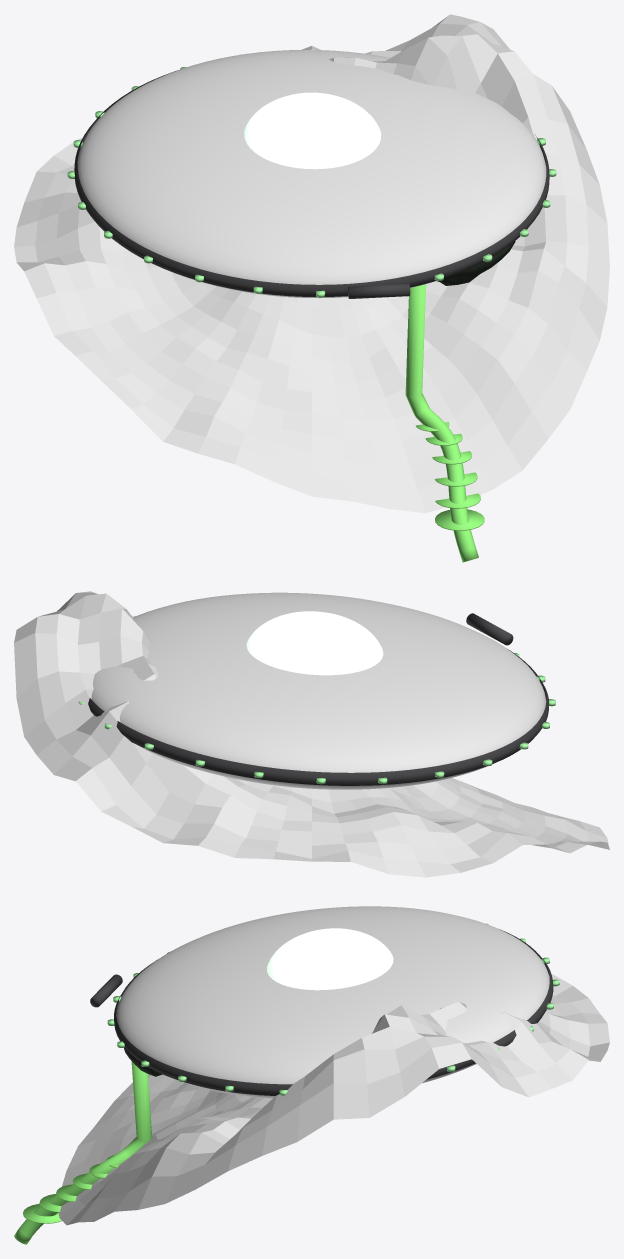
Rendered from Ship.fbx.
3 renders of one model, top to bottom at view 1: azimuth 30°, elevation 25°; view 2: azimuth 150°, elevation 25°; view 3: azimuth 270°, elevation 25°, orthographic. The views are drawn at different scales.
Parts seen in each view (by area): view 1: Ship_LOD0; view 2: Ship_LOD0; view 3: Ship_LOD0.
Boxes of the visible parts, x1,y1,x2,y2 form: Ship_LOD0: [14, 14, 609, 562]; Ship_LOD0: [14, 591, 609, 877]; Ship_LOD0: [14, 906, 609, 1244].
Size of what is drawn, in the model's own units: 76 by 47.67 by 81.94.
